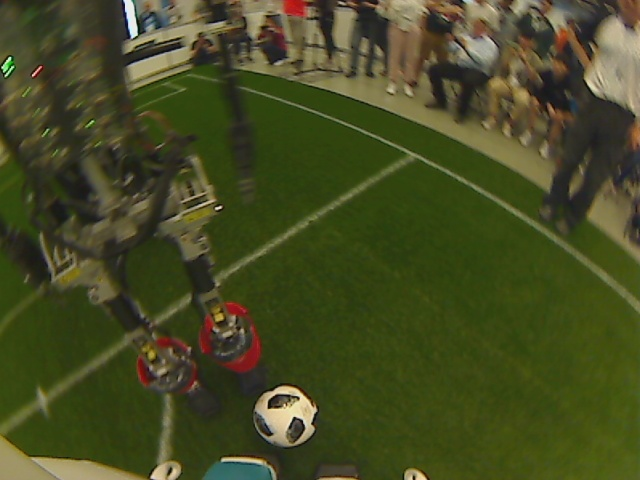ball: (252, 383, 316, 450)
